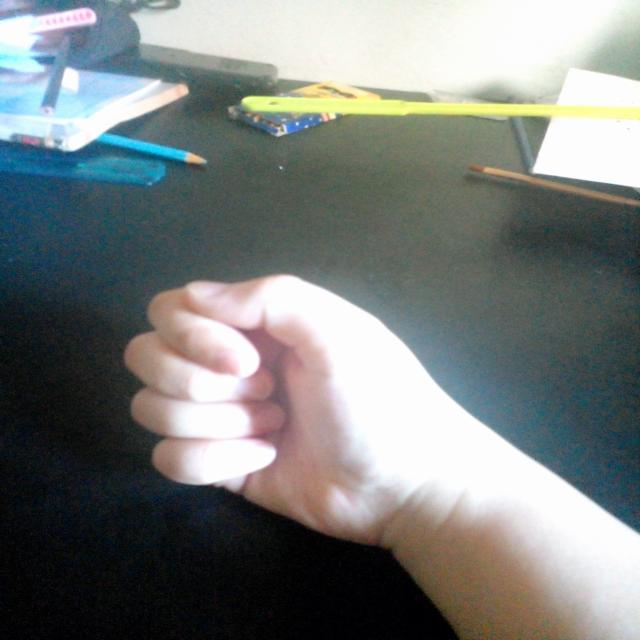Closed Hand: (121, 272, 463, 562)
